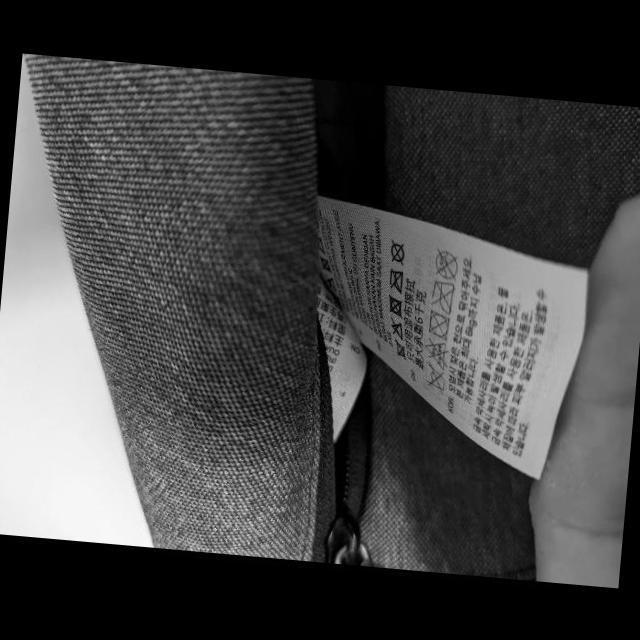DN_bleach: (420, 336, 450, 370), (386, 314, 406, 340), (321, 272, 338, 291)
DN_dry_clean: (430, 245, 460, 282), (388, 237, 408, 266)
DN_iron: (426, 278, 456, 316), (386, 265, 406, 294)
DN_tumble_dry: (425, 308, 453, 342), (385, 292, 406, 320), (317, 254, 333, 272)
DN_wash: (422, 358, 449, 396), (392, 338, 408, 360)
